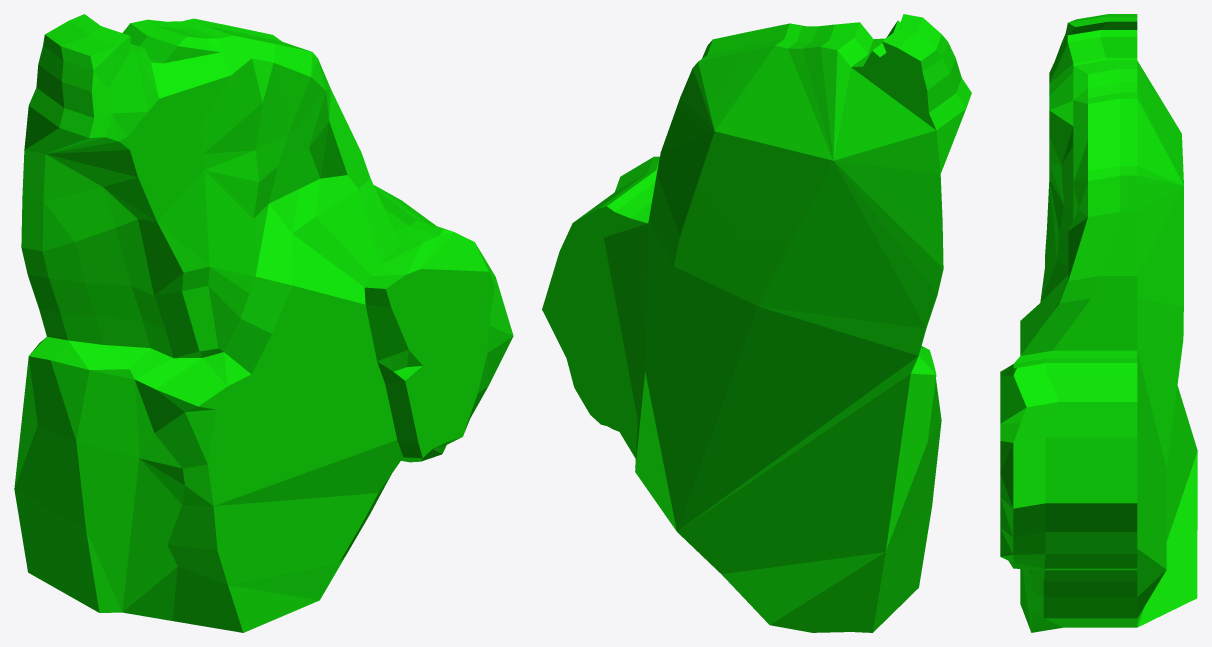
Rendered from Skala1.fbx.
3 views of the same model, side by side, from view 1: azimuth 30°, elevation 25°; view 2: azimuth 150°, elevation 25°; view 3: azimuth 270°, elevation 25° (orthographic). The views are drawn at different scales.
Parts seen in each view (by area): view 1: skala1; view 2: skala1; view 3: skala1.
Boxes of the visible parts, x1,y1,x2,y2 form: skala1: [14, 14, 513, 632]; skala1: [542, 14, 971, 632]; skala1: [1000, 14, 1197, 632].
Bounding box in the file's own units: 1.16 × 1.56 × 0.5169.
